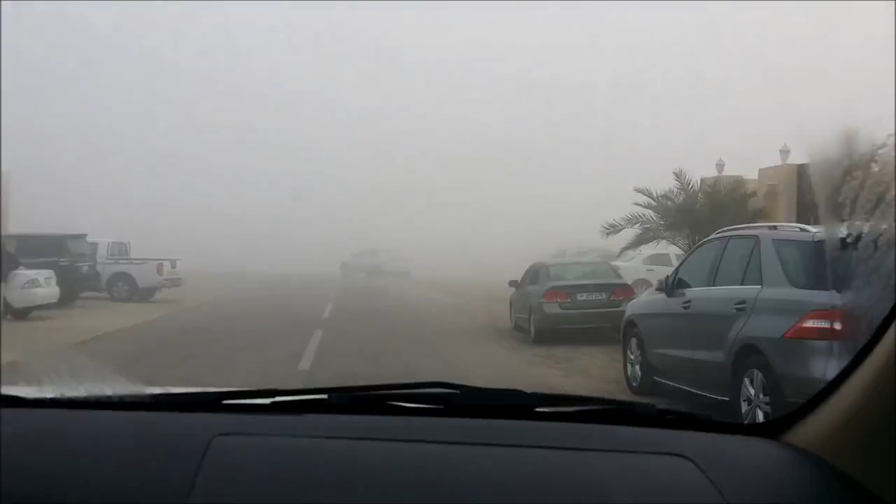car: (620, 219, 896, 441), (507, 257, 637, 344), (42, 237, 185, 304), (1, 230, 104, 305), (600, 248, 707, 301), (1, 249, 61, 321), (336, 244, 413, 279)
